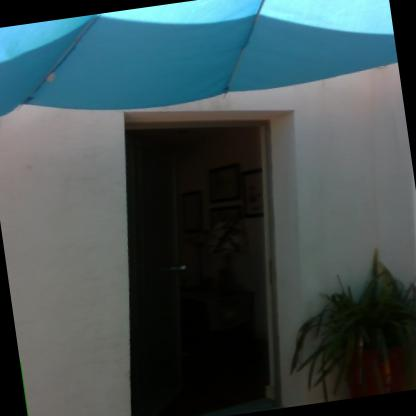open: (93, 86, 335, 415)
